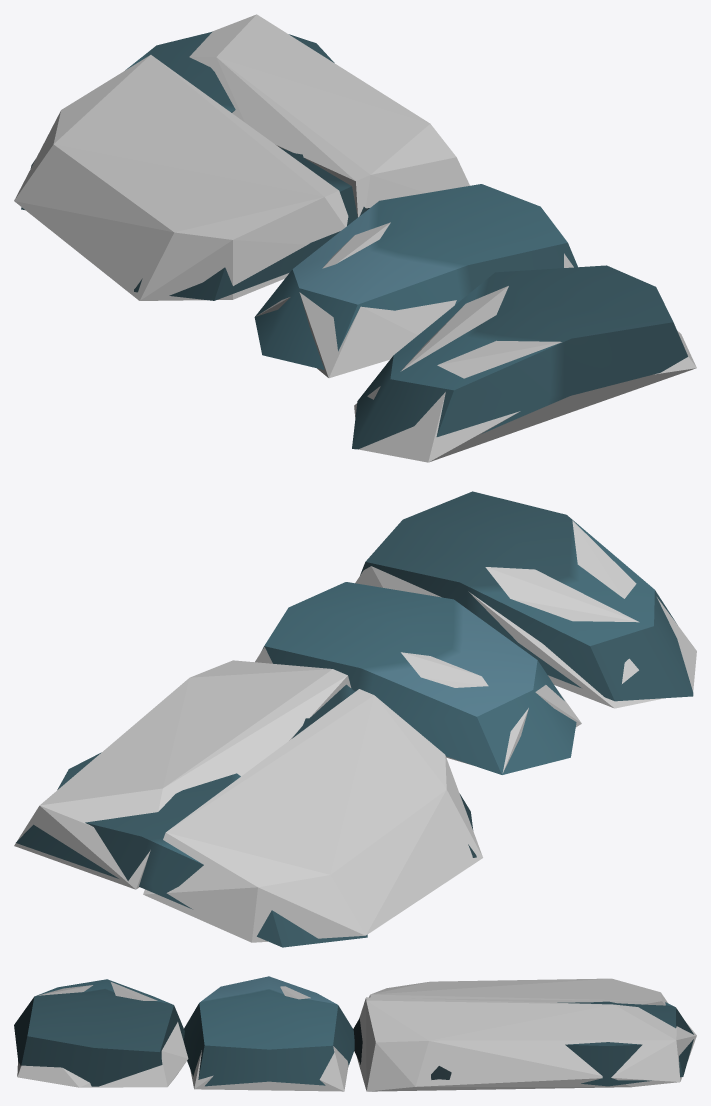
Rendered from SM_Bld_Roof_Tiles_Line_Half_01.fbx.
3 renders of one model, top to bottom at view 1: azimuth 30°, elevation 25°; view 2: azimuth 150°, elevation 25°; view 3: azimuth 270°, elevation 25°, orthographic. The views are drawn at different scales.
Visible parts, largest first — view 1: SM_Bld_Roof_Tiles_Line_Half_01_ConvexHulls, SM_Bld_Roof_Tiles_Line_Half_01; view 2: SM_Bld_Roof_Tiles_Line_Half_01_ConvexHulls, SM_Bld_Roof_Tiles_Line_Half_01; view 3: SM_Bld_Roof_Tiles_Line_Half_01_ConvexHulls, SM_Bld_Roof_Tiles_Line_Half_01.
Boxes of the visible parts, x1,y1,x2,y2 form: SM_Bld_Roof_Tiles_Line_Half_01_ConvexHulls: (14, 14, 696, 462); SM_Bld_Roof_Tiles_Line_Half_01: (21, 31, 687, 449); SM_Bld_Roof_Tiles_Line_Half_01_ConvexHulls: (14, 520, 696, 942); SM_Bld_Roof_Tiles_Line_Half_01: (16, 491, 693, 947); SM_Bld_Roof_Tiles_Line_Half_01_ConvexHulls: (17, 978, 696, 1091); SM_Bld_Roof_Tiles_Line_Half_01: (14, 976, 693, 1086).
Bounding box in the file's own units: 52.81 × 127 × 17.52.
2 materials, 1 textured.
